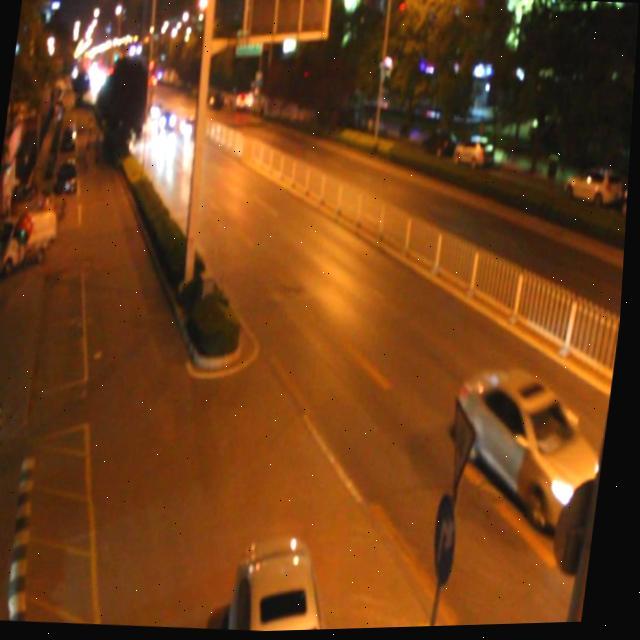car: (448, 360, 618, 534), (233, 530, 343, 634), (181, 115, 200, 140), (159, 110, 177, 130), (237, 93, 249, 111)
